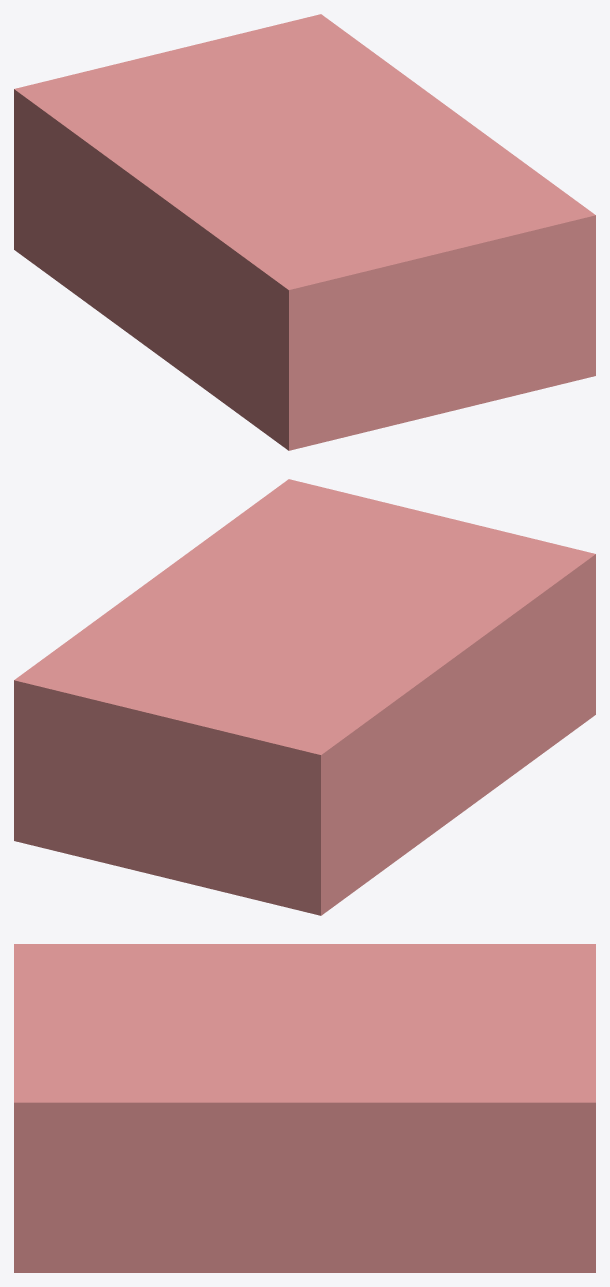
The picture shows the model from 3 angles, top to bottom: view 1: azimuth 30°, elevation 25°; view 2: azimuth 150°, elevation 25°; view 3: azimuth 270°, elevation 25°; orthographic projection. The views are drawn at different scales.
Parts seen in each view (by area): view 1: Component (1); view 2: Component (1); view 3: Component (1).
Part boxes in pixels (x1,y1,x2,y2): Component (1): [14, 14, 595, 450]; Component (1): [14, 479, 595, 915]; Component (1): [14, 944, 595, 1272].
Bounding box in the file's own units: 3.99 × 1.99 × 6.18.
